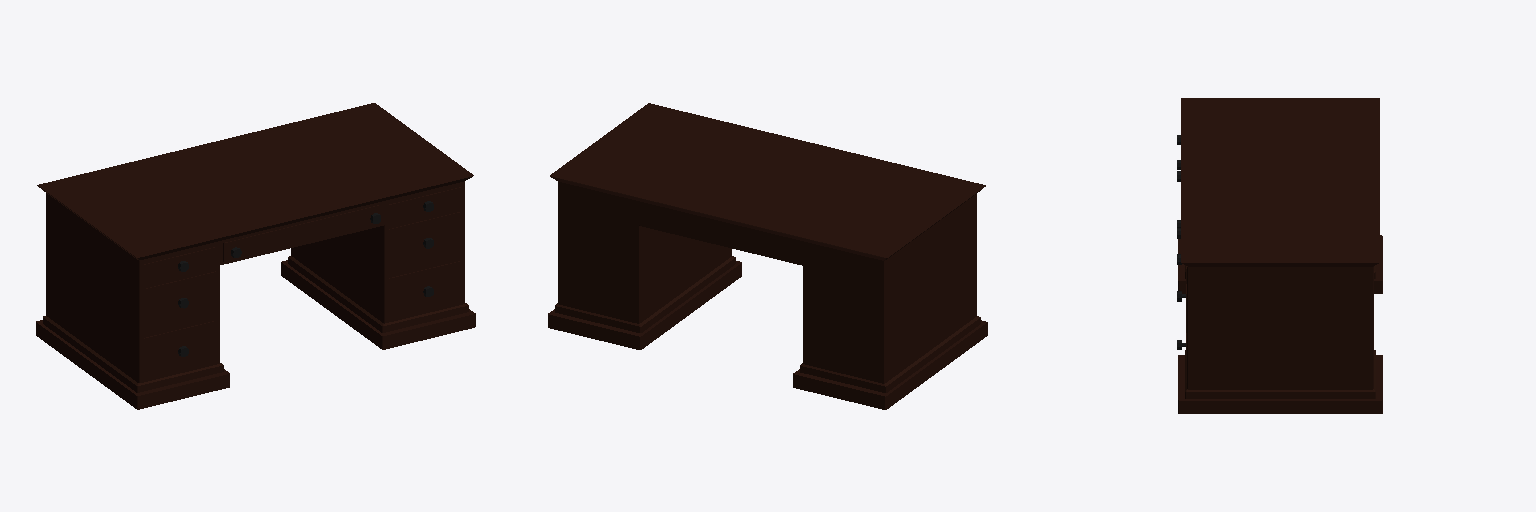
Rendered from ExecutiveDesk1.obj.
3 views of the same model, side by side, from view 1: azimuth 30°, elevation 25°; view 2: azimuth 150°, elevation 25°; view 3: azimuth 270°, elevation 25° (orthographic).
Parts seen in each view (by area): view 1: ExecutiveDesk1_Cube.019, Drawer4_ExecutiveDesk1_Cube.006, Drawer2_ExecutiveDesk1_Cube.002, Drawer7_ExecutiveDesk1_Cube.005, Drawer6_ExecutiveDesk1_Cube.020, Drawer3_ExecutiveDesk1_Cube.003, Drawer5_ExecutiveDesk1_Cube.004, Drawer1_ExecutiveDesk1_Cube.001; view 2: ExecutiveDesk1_Cube.019; view 3: ExecutiveDesk1_Cube.019.
Boxes of the visible parts, x1=… form: ExecutiveDesk1_Cube.019: x1=36, y1=103, x2=475, y2=409; Drawer4_ExecutiveDesk1_Cube.006: x1=223, y1=205, x2=381, y2=261; Drawer2_ExecutiveDesk1_Cube.002: x1=144, y1=271, x2=216, y2=328; Drawer7_ExecutiveDesk1_Cube.005: x1=389, y1=261, x2=461, y2=317; Drawer6_ExecutiveDesk1_Cube.020: x1=389, y1=212, x2=461, y2=268; Drawer3_ExecutiveDesk1_Cube.003: x1=144, y1=321, x2=216, y2=377; Drawer5_ExecutiveDesk1_Cube.004: x1=389, y1=187, x2=461, y2=219; Drawer1_ExecutiveDesk1_Cube.001: x1=144, y1=247, x2=216, y2=279; ExecutiveDesk1_Cube.019: x1=548, y1=103, x2=987, y2=409; ExecutiveDesk1_Cube.019: x1=1178, y1=98, x2=1382, y2=413.
Bounding box in the file's own units: 2.05 × 0.8744 × 1.08.